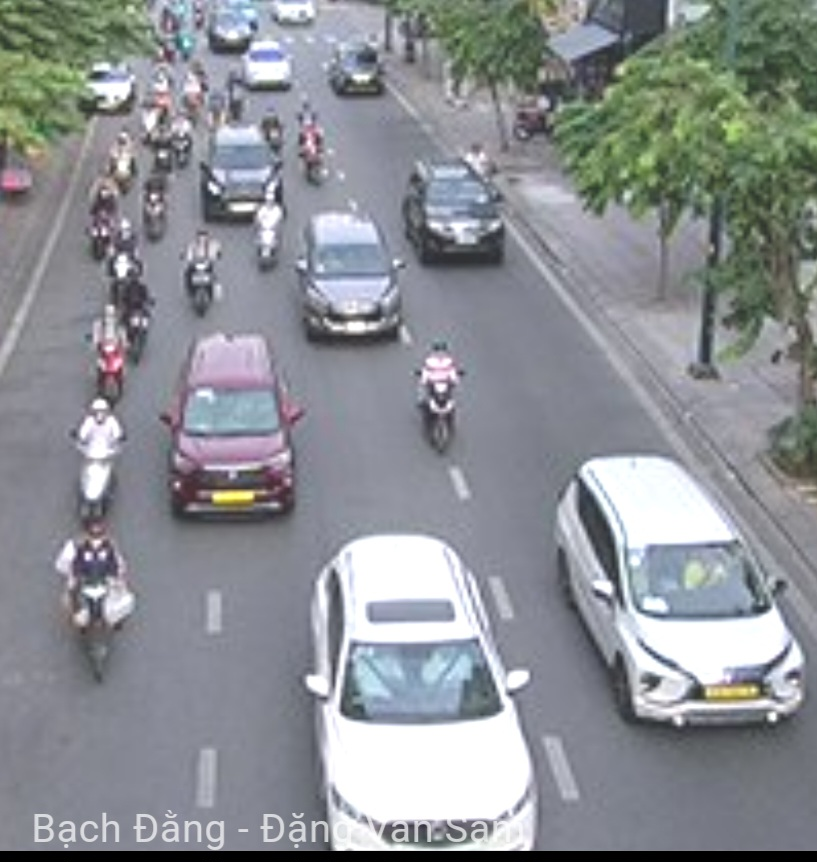car: (304, 536, 540, 843), (555, 451, 802, 729), (166, 333, 298, 519), (298, 212, 401, 342), (406, 162, 508, 267), (203, 123, 283, 225), (330, 41, 388, 98)
